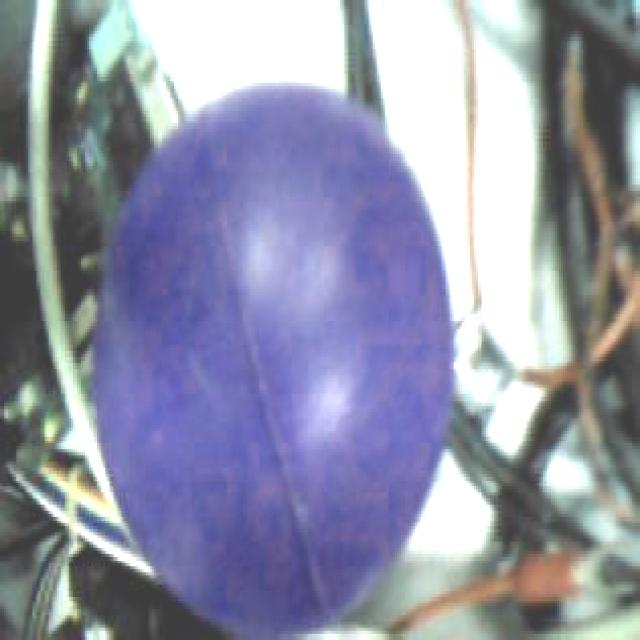BallPurple: (93, 80, 450, 640)
